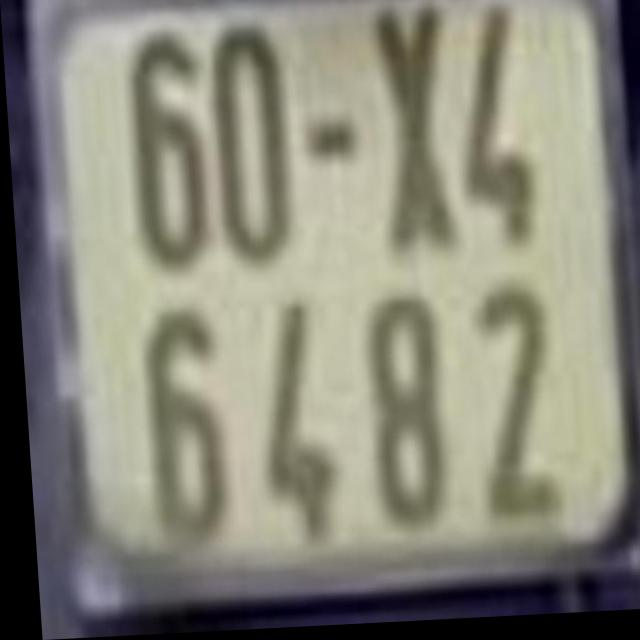0: (204, 31, 296, 265)
2: (461, 277, 562, 533)
4: (444, 4, 550, 253), (245, 298, 332, 547)
6: (132, 305, 224, 541), (123, 29, 210, 276)
8: (357, 279, 442, 535)
X: (360, 1, 451, 257)
